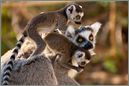cat: (1, 0, 84, 83), (0, 22, 101, 85)
